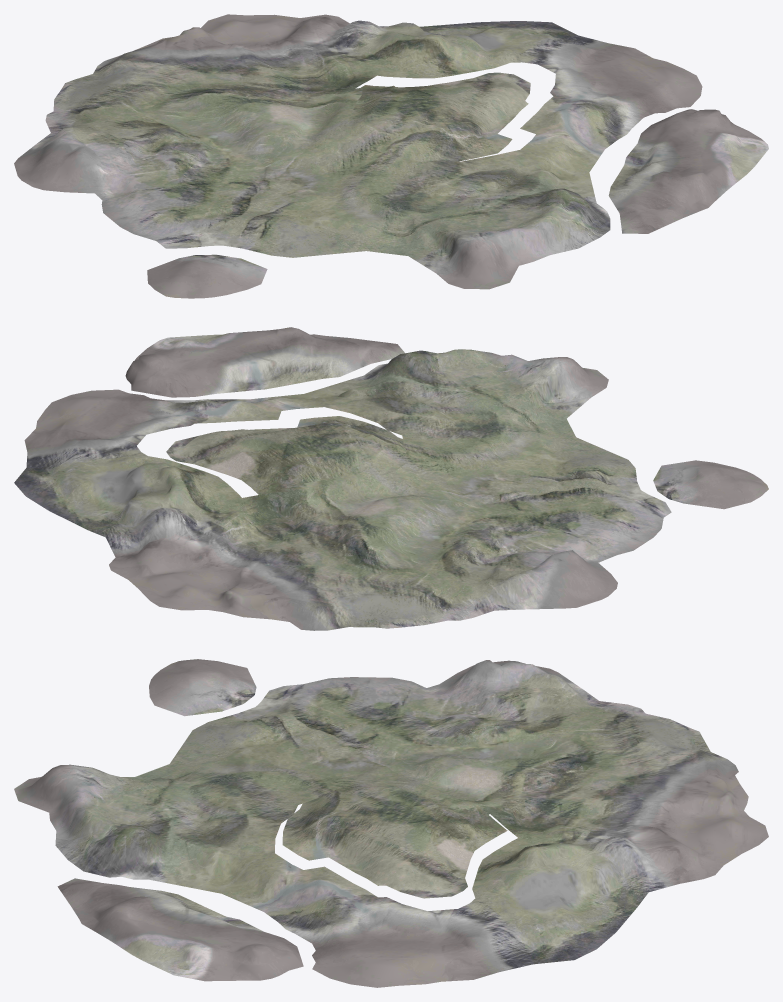
File: peak_terrain.glb
3 renders of one model, top to bottom at view 1: azimuth 30°, elevation 25°; view 2: azimuth 150°, elevation 25°; view 3: azimuth 270°, elevation 25°, orthographic. The views are drawn at different scales.
Visible parts, largest first — view 1: map bermuda, map bermuda.001; view 2: map bermuda, map bermuda.001; view 3: map bermuda, map bermuda.001.
Part boxes in pixels (x1,y1,x2,y2): map bermuda: [14, 14, 768, 298]; map bermuda.001: [338, 72, 530, 161]; map bermuda: [14, 327, 768, 630]; map bermuda.001: [166, 416, 408, 494]; map bermuda: [14, 659, 768, 987]; map bermuda.001: [282, 780, 507, 898].
Bounding box in the file's own units: 2242 × 127 × 2171.
1 material, 1 textured.
